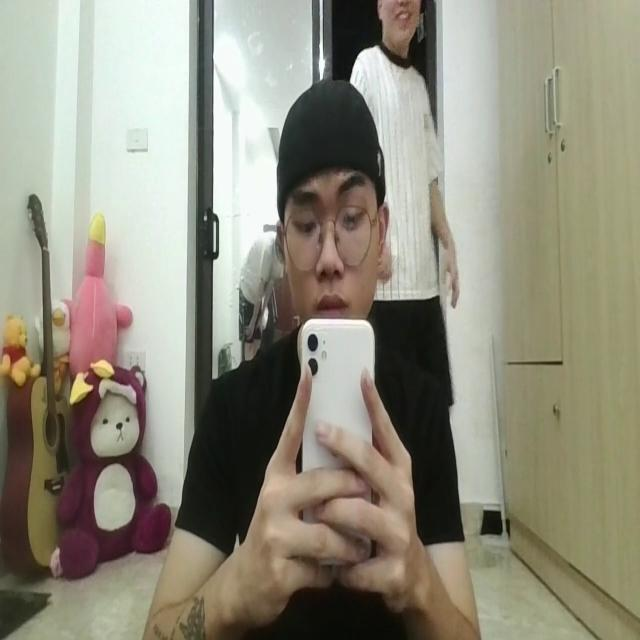extra_person: (356, 0, 457, 332)
phone: (296, 312, 378, 582)
student: (145, 71, 479, 640)
